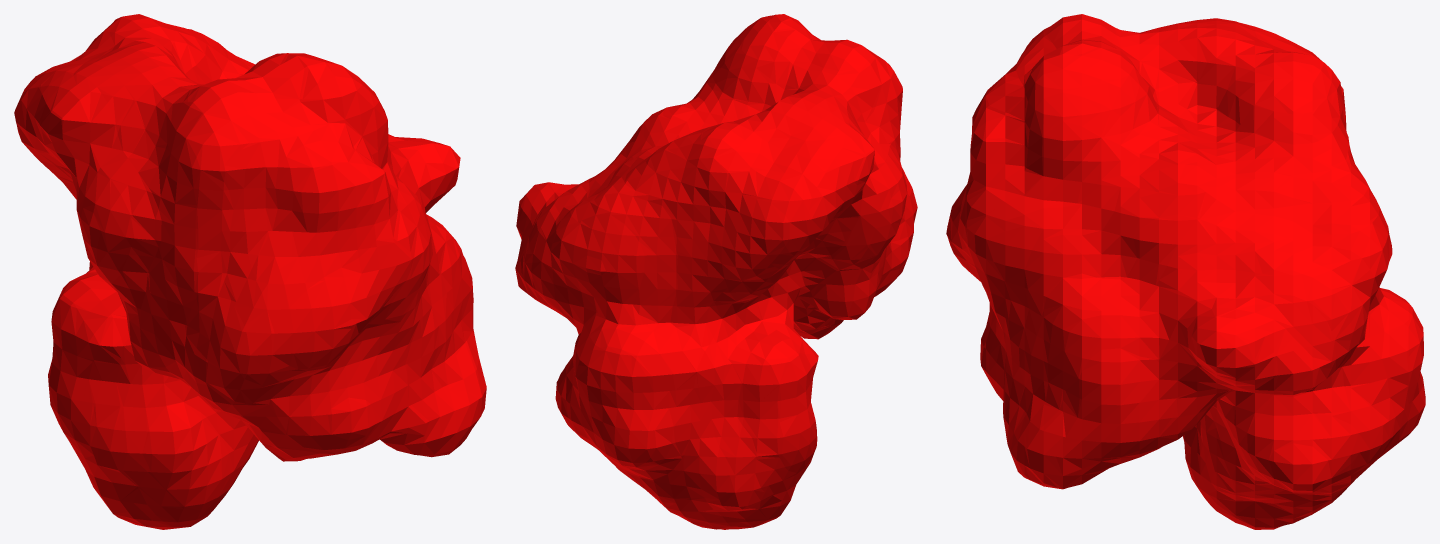
File: nadB_coarse.dae
3 renders of one model, left to right at view 1: azimuth 30°, elevation 25°; view 2: azimuth 150°, elevation 25°; view 3: azimuth 270°, elevation 25°, orthographic. The views are drawn at different scales.
Visible parts, largest first — view 1: nadB; view 2: nadB; view 3: nadB.
Part boxes in pixels (box(x1,y1,x2,y2)): nadB: box(14, 14, 486, 529); nadB: box(515, 14, 917, 529); nadB: box(946, 14, 1425, 529).
Size of the model in its own units: 60.1 by 73.66 by 64.68.
